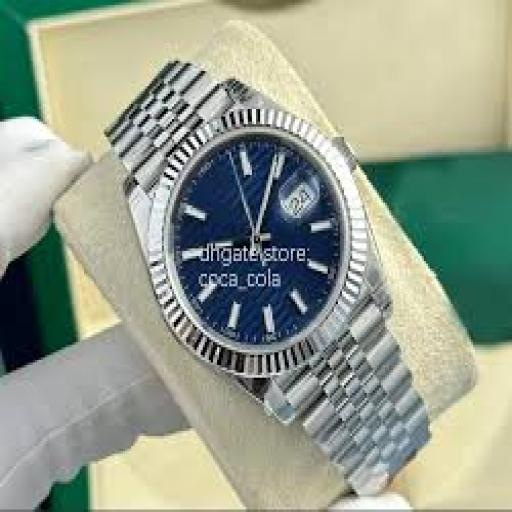KolSaati: (92, 50, 448, 499)
